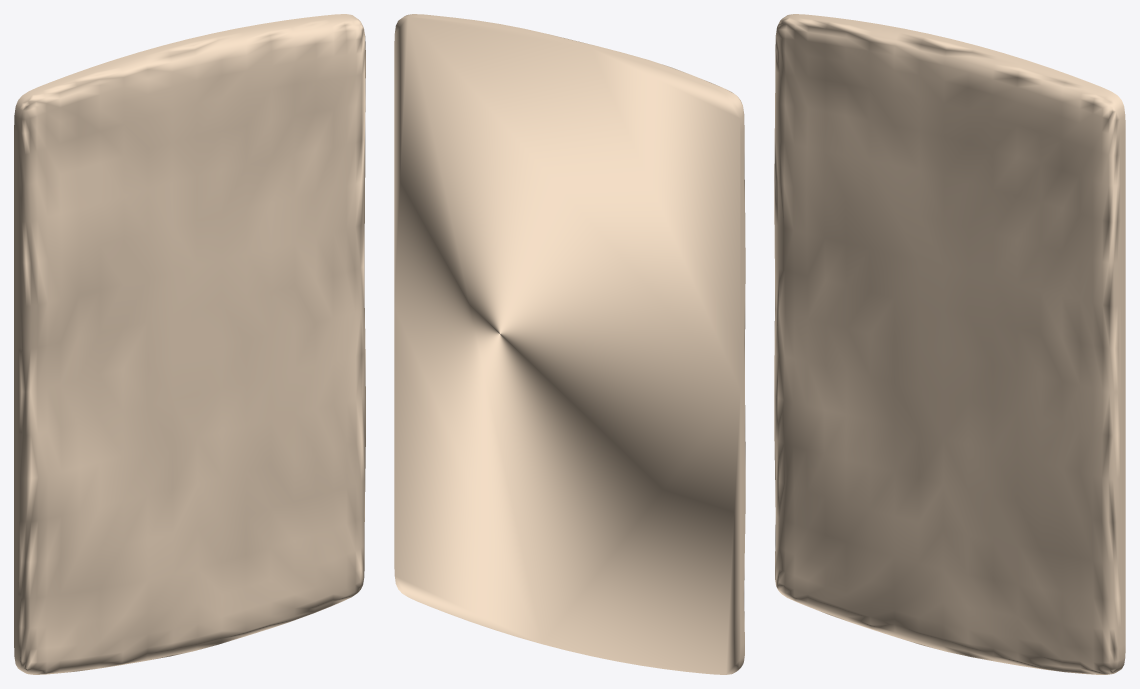
The model's file is pad.obj.
3 views of the same model, side by side, from view 1: azimuth 30°, elevation 25°; view 2: azimuth 150°, elevation 25°; view 3: azimuth 330°, elevation 25° (orthographic).
Parts seen in each view (by area): view 1: pad.004; view 2: pad.004; view 3: pad.004.
Boxes of the visible parts, x1=… form: pad.004: x1=14, y1=14, x2=365, y2=674; pad.004: x1=394, y1=14, x2=745, y2=674; pad.004: x1=774, y1=14, x2=1125, y2=674.
Bounding box in the file's own units: 0.1013 × 0.1702 × 0.00529.
